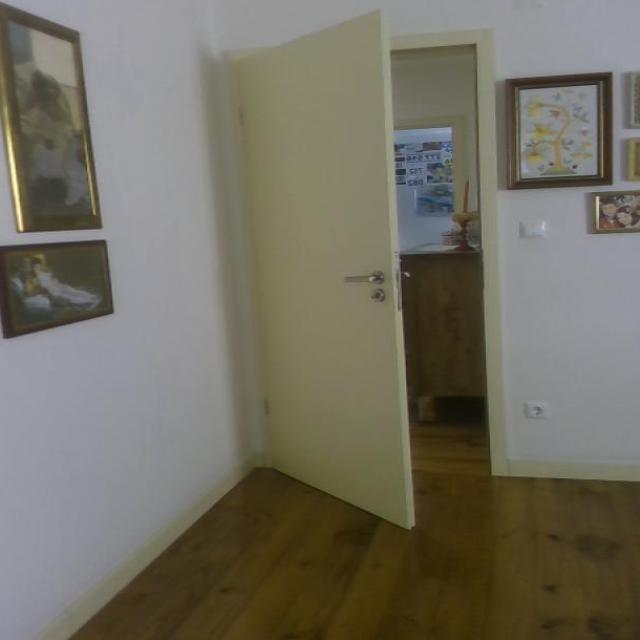door: (226, 7, 417, 530)
